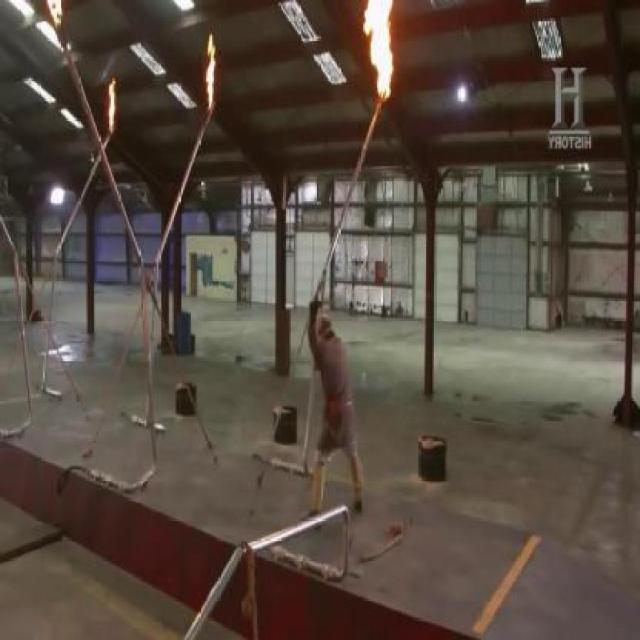Fire: (360, 2, 399, 103), (204, 34, 218, 110), (106, 78, 119, 136)
